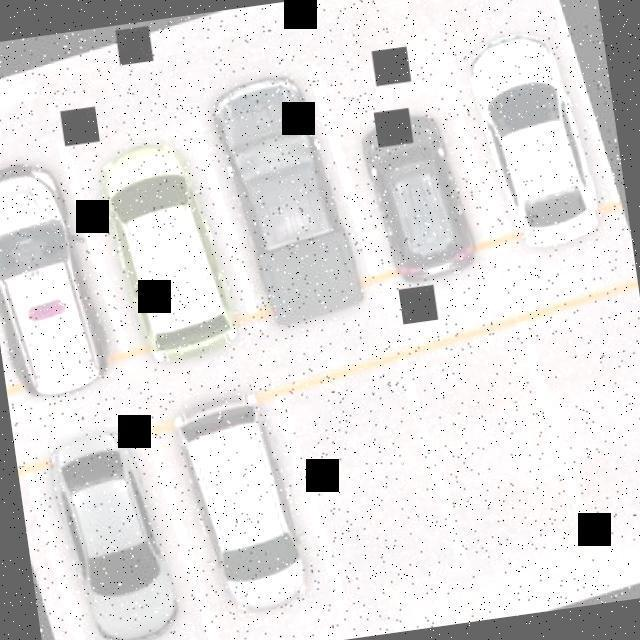car: (200, 58, 380, 342), (152, 369, 322, 635), (453, 7, 617, 260), (92, 128, 248, 364), (0, 140, 122, 406), (40, 422, 184, 640), (354, 110, 483, 296)
free: (283, 354, 475, 632), (408, 323, 591, 585), (529, 288, 640, 560)
